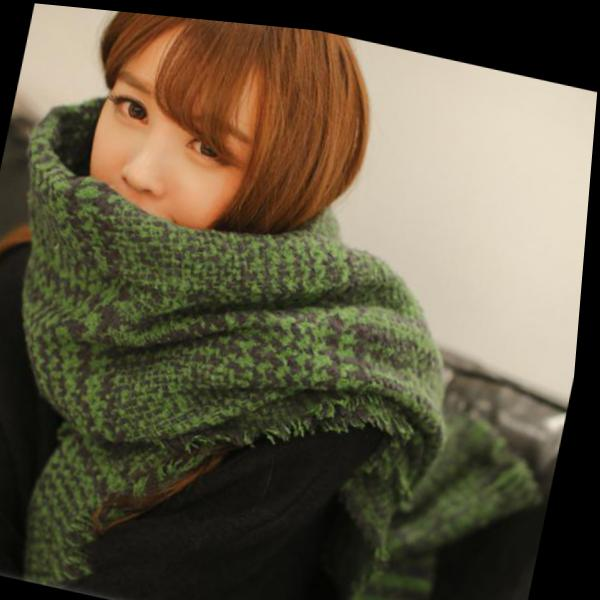WRONG: (65, 45, 299, 292)
